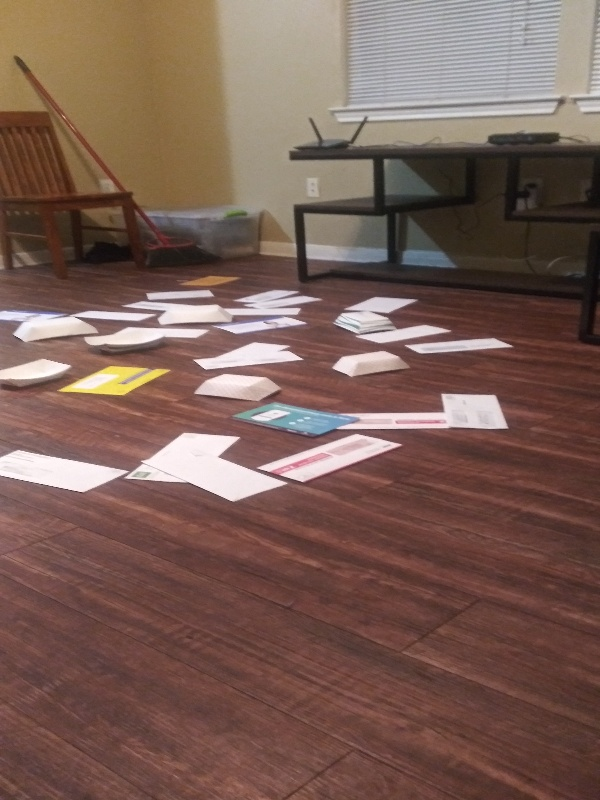plate: (1, 354, 77, 395), (192, 371, 287, 403), (9, 314, 99, 346), (82, 324, 174, 355), (328, 347, 414, 380), (149, 303, 240, 327), (329, 311, 405, 337)
